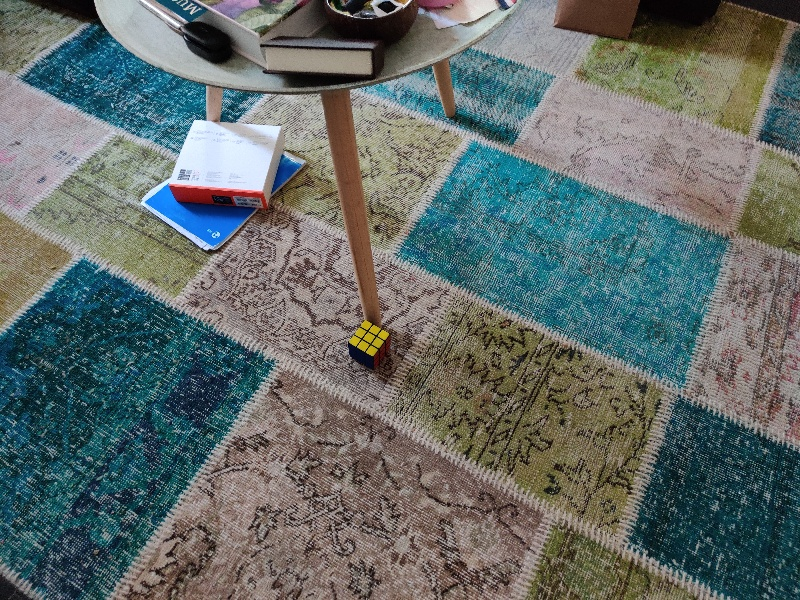rubik: (348, 319, 390, 370)
